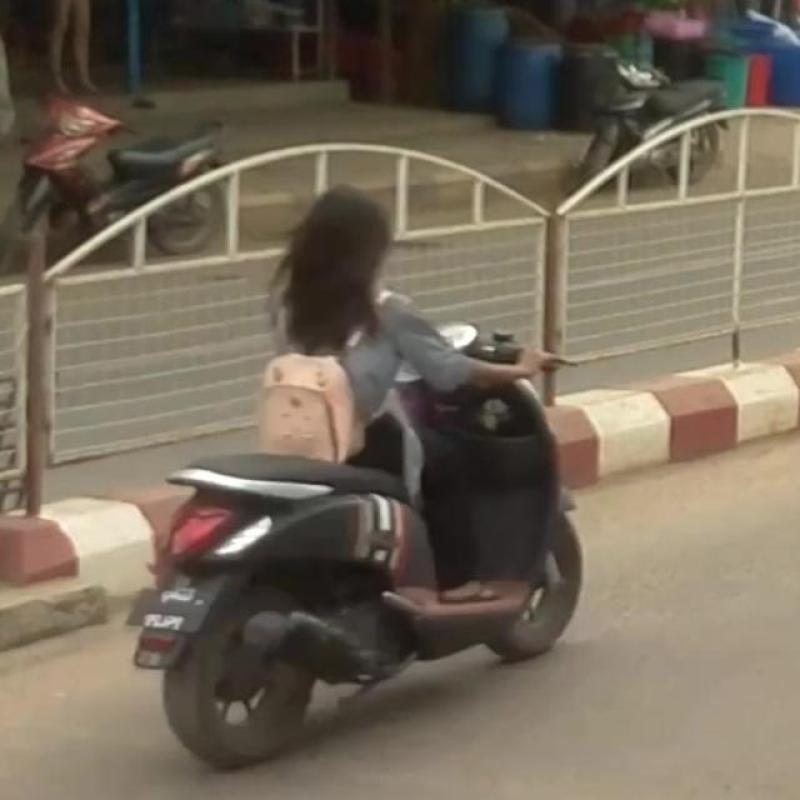nohelmet: (286, 176, 423, 330)
